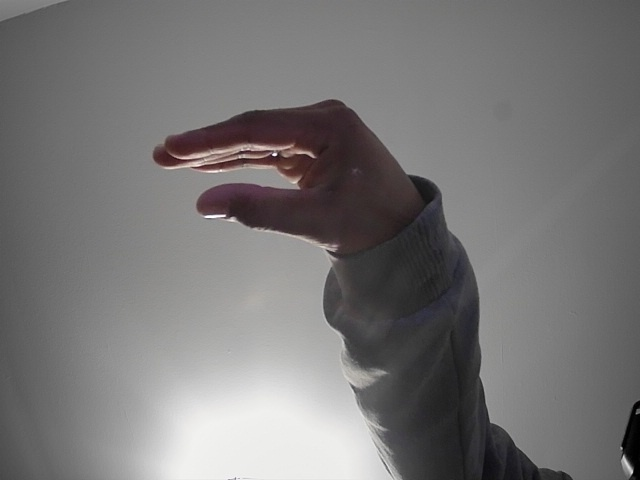No: (107, 67, 428, 263)
